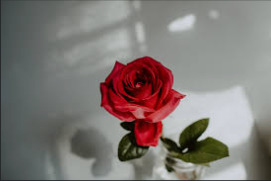RedRose: (82, 56, 191, 133)
